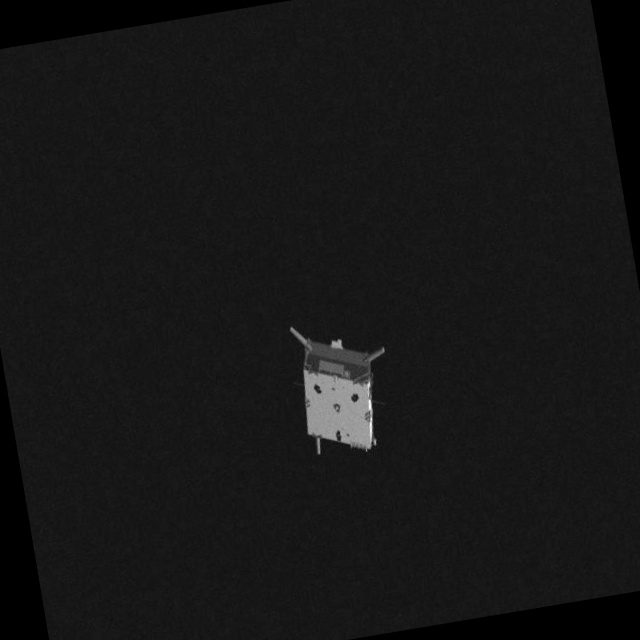medium_debris: (286, 310, 405, 466)
